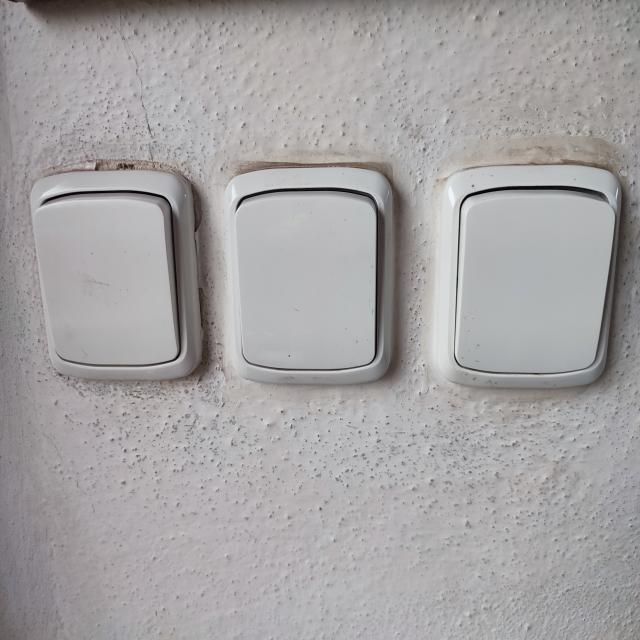house switch: (434, 164, 622, 390), (223, 166, 393, 384), (30, 169, 203, 381)
